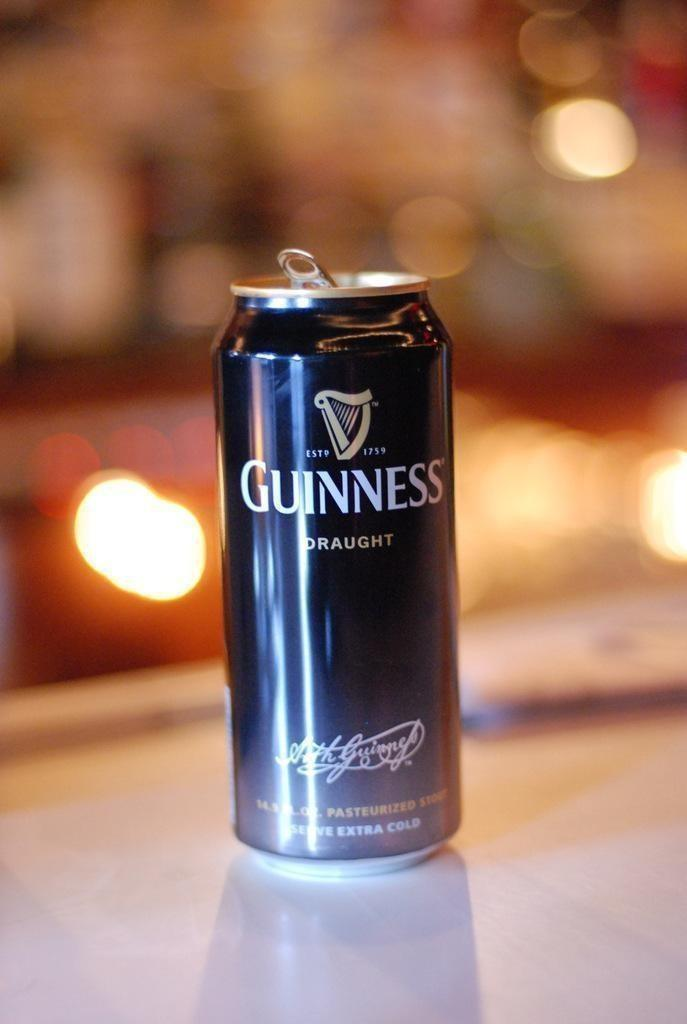tin can: (209, 251, 462, 886)
